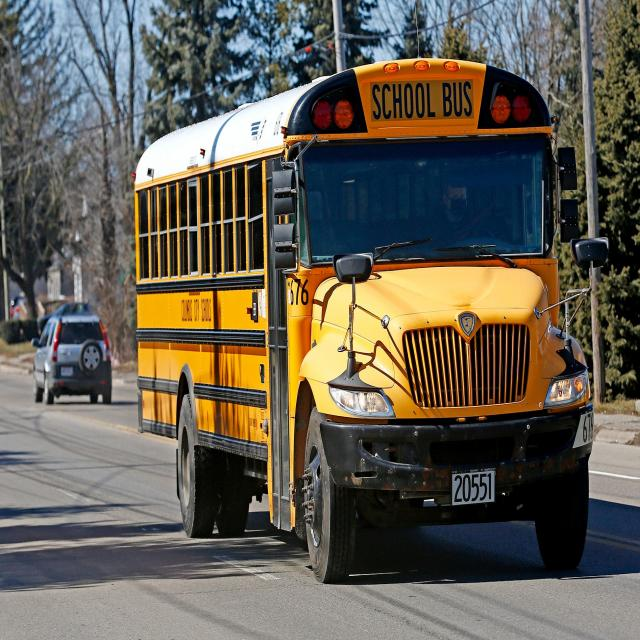bus: (128, 48, 603, 591)
car: (24, 293, 118, 411)
